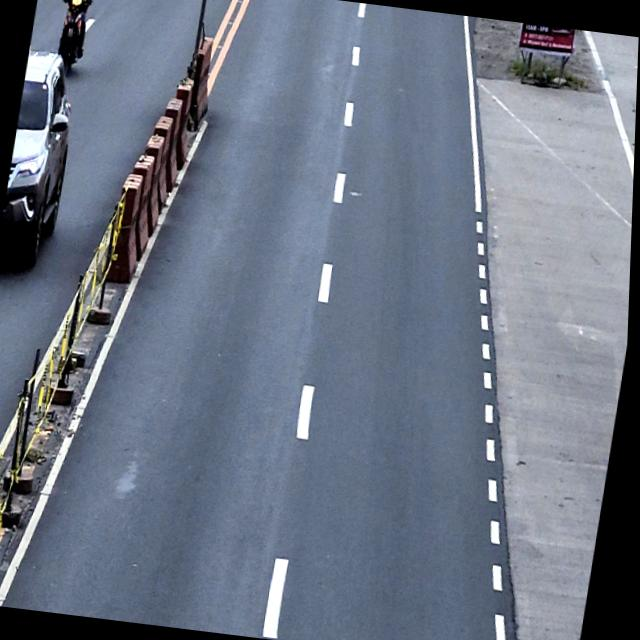Car: (0, 46, 88, 272)
Motorcycle: (54, 0, 93, 75)
